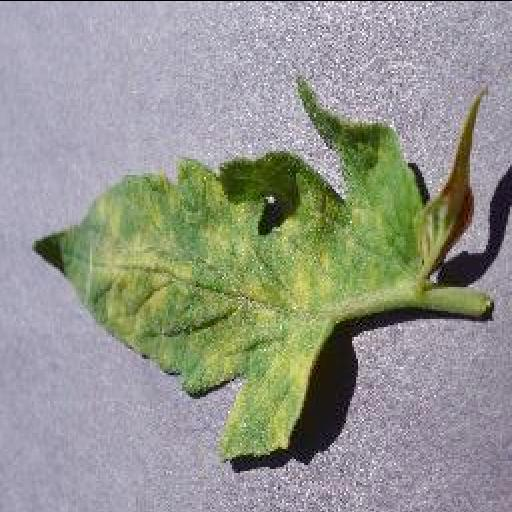disease_tomato: (29, 77, 423, 457)
